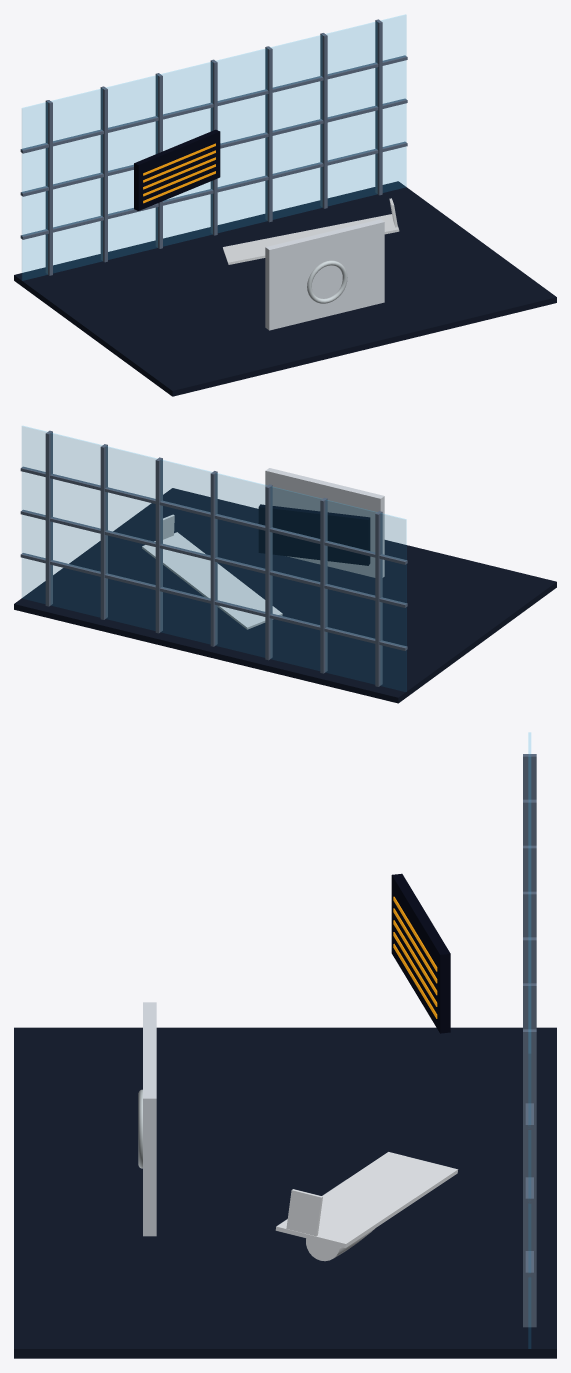
File: airport_terminal.glb
The picture shows the model from 3 angles, top to bottom: view 1: azimuth 30°, elevation 25°; view 2: azimuth 150°, elevation 25°; view 3: azimuth 270°, elevation 25°; orthographic projection. The views are drawn at different scales.
Visible parts, largest first — view 1: object 2, object 1, CabinWindowModule, object 13, object 12, object 10, object 11, object 7, object 9, object 8, object 4, object 3 (+2 smaller); view 2: object 2, object 1, CabinWindowModule, object 13, object 11, object 10, object 12, object 5, object 9, object 3, object 7, object 8 (+2 smaller); view 3: object 1, CabinWindowModule, object 13, object 9, object 2.
Boxes of the visible parts, x1,y1,x2,y2 form: object 2: [22, 14, 406, 280]; object 1: [14, 181, 556, 396]; CabinWindowModule: [223, 198, 399, 330]; object 13: [134, 129, 220, 210]; object 12: [20, 55, 407, 153]; object 10: [20, 141, 407, 239]; object 11: [20, 98, 407, 196]; object 7: [265, 46, 272, 222]; object 9: [375, 19, 382, 195]; object 8: [320, 33, 327, 208]; object 4: [100, 86, 107, 262]; object 3: [45, 100, 52, 275]; object 2: [22, 426, 406, 691]; object 1: [14, 488, 556, 703]; CabinWindowModule: [142, 468, 384, 629]; object 13: [258, 504, 370, 565]; object 11: [20, 509, 407, 607]; object 10: [20, 553, 407, 650]; object 12: [20, 466, 407, 564]; object 5: [265, 484, 272, 660]; object 9: [45, 430, 52, 606]; object 3: [375, 511, 382, 686]; object 7: [155, 457, 162, 633]; object 8: [100, 444, 107, 619]; object 1: [14, 1027, 556, 1358]; CabinWindowModule: [138, 1002, 458, 1261]; object 13: [391, 873, 450, 1033]; object 9: [523, 1029, 536, 1327]; object 2: [528, 732, 530, 1348].
Bounding box in the file's own units: 14 × 6.4 × 10.
